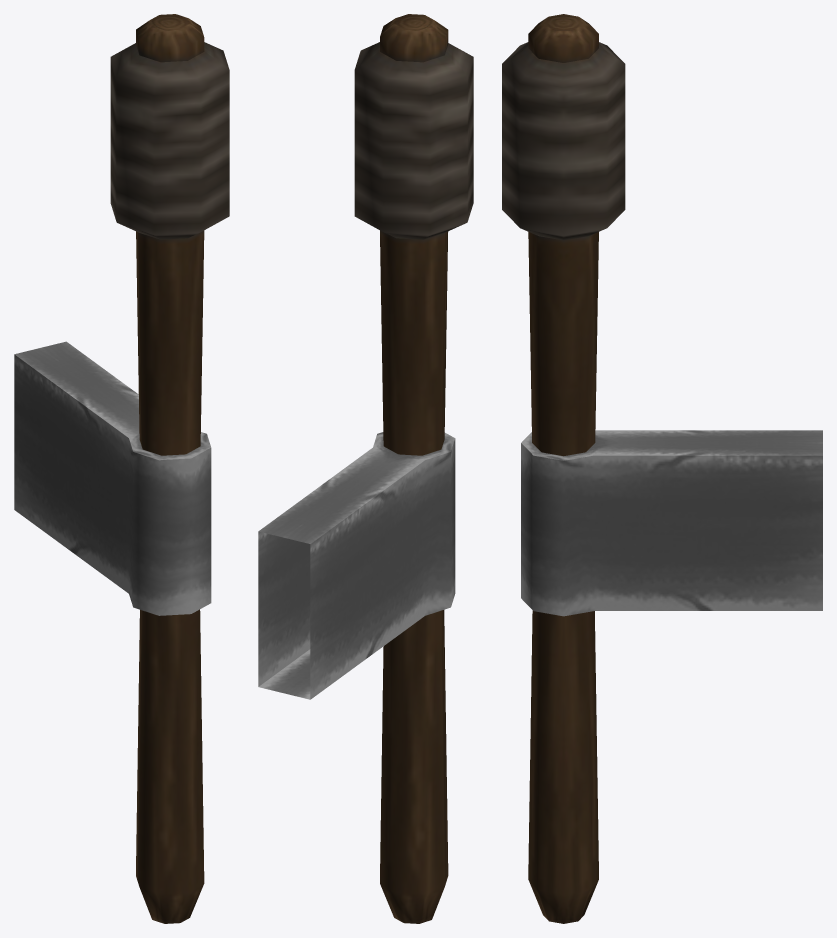
File: TorchWall_Geo.fbx
3 renders of one model, left to right at view 1: azimuth 30°, elevation 25°; view 2: azimuth 150°, elevation 25°; view 3: azimuth 270°, elevation 25°, orthographic.
Visible parts, largest first — view 1: TorchWall_Geo; view 2: TorchWall_Geo; view 3: TorchWall_Geo.
Boxes of the visible parts, left/top/right/bottom form: TorchWall_Geo: left=14, top=14, right=229, bottom=923; TorchWall_Geo: left=258, top=14, right=473, bottom=923; TorchWall_Geo: left=502, top=14, right=822, bottom=923.
Bounding box in the file's own units: 6.53 × 52.16 × 17.
